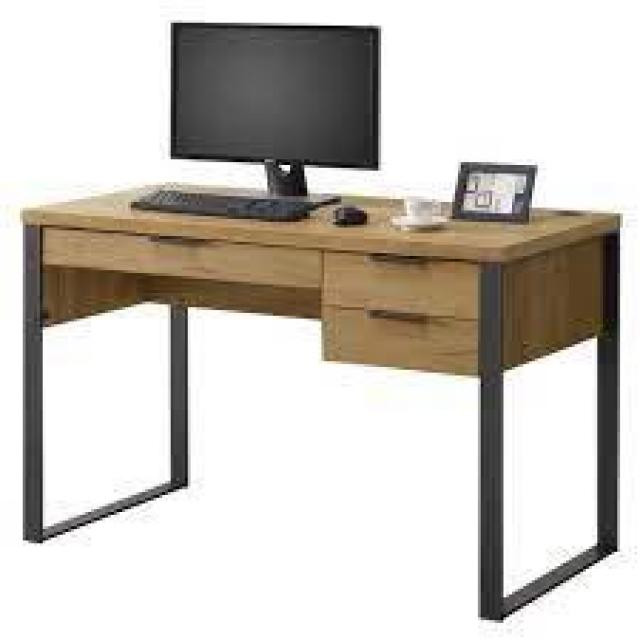table: (17, 15, 629, 598)
